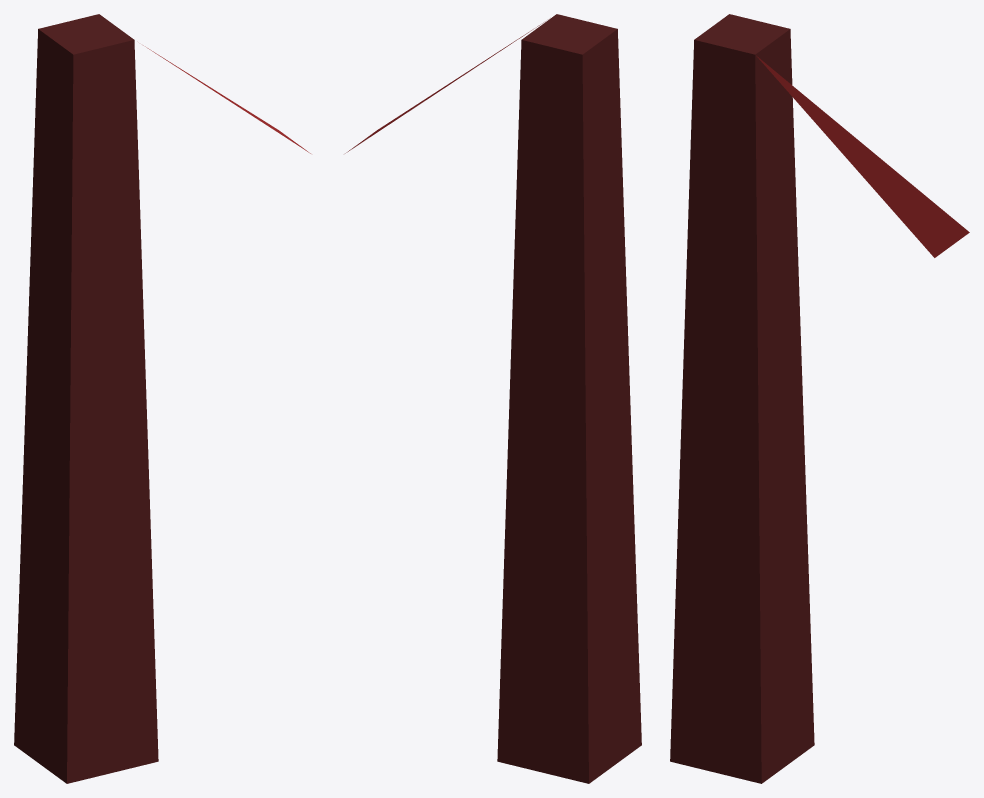
The model's file is borderpost_roman.obj.
3 views of the same model, side by side, from view 1: azimuth 30°, elevation 25°; view 2: azimuth 150°, elevation 25°; view 3: azimuth 330°, elevation 25° (orthographic).
Parts seen in each view (by area): view 1: borderpost; view 2: borderpost; view 3: borderpost.
Boxes of the visible parts, x1,y1,x2,y2 form: borderpost: [14, 14, 310, 783]; borderpost: [345, 14, 641, 783]; borderpost: [670, 14, 969, 783].
Bounding box in the file's own units: 0.67 × 1.8 × 0.24.
